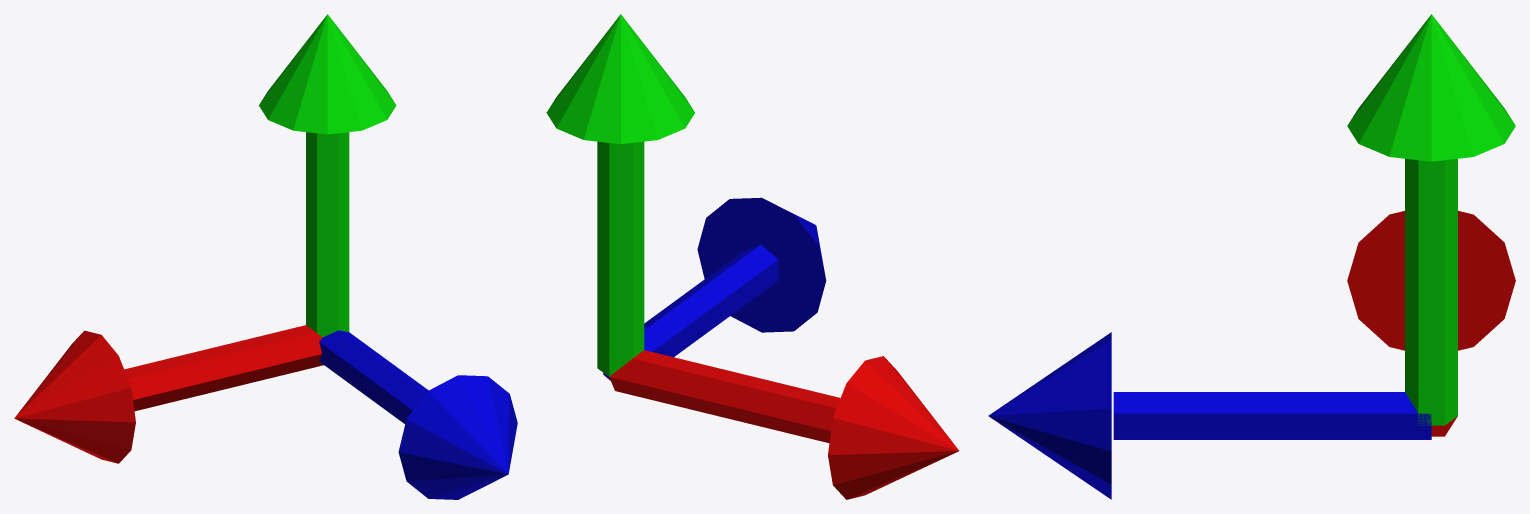
The model's file is Gizmo_InsectSwarm.fbx.
3 views of the same model, side by side, from view 1: azimuth 30°, elevation 25°; view 2: azimuth 150°, elevation 25°; view 3: azimuth 270°, elevation 25° (orthographic). The views are drawn at different scales.
Visible parts, largest first — view 1: Gizmo_Mesh; view 2: Gizmo_Mesh; view 3: Gizmo_Mesh.
Part boxes in pixels (<box>): Gizmo_Mesh: <box>14,14,517,499</box>; Gizmo_Mesh: <box>546,14,958,499</box>; Gizmo_Mesh: <box>988,14,1515,499</box>.
Bounding box in the file's own units: 59.75 × 59.75 × 59.75.
